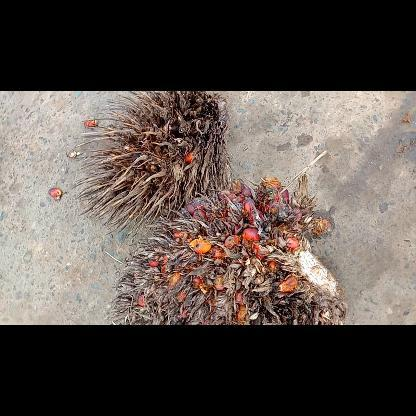Janjang kosong: (75, 91, 232, 235)
Terlalu masak: (107, 176, 346, 324)
